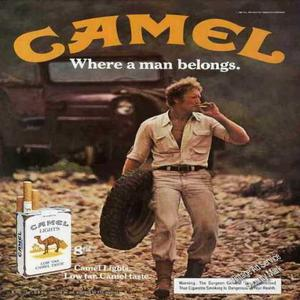cigarette: (196, 104, 213, 113)
